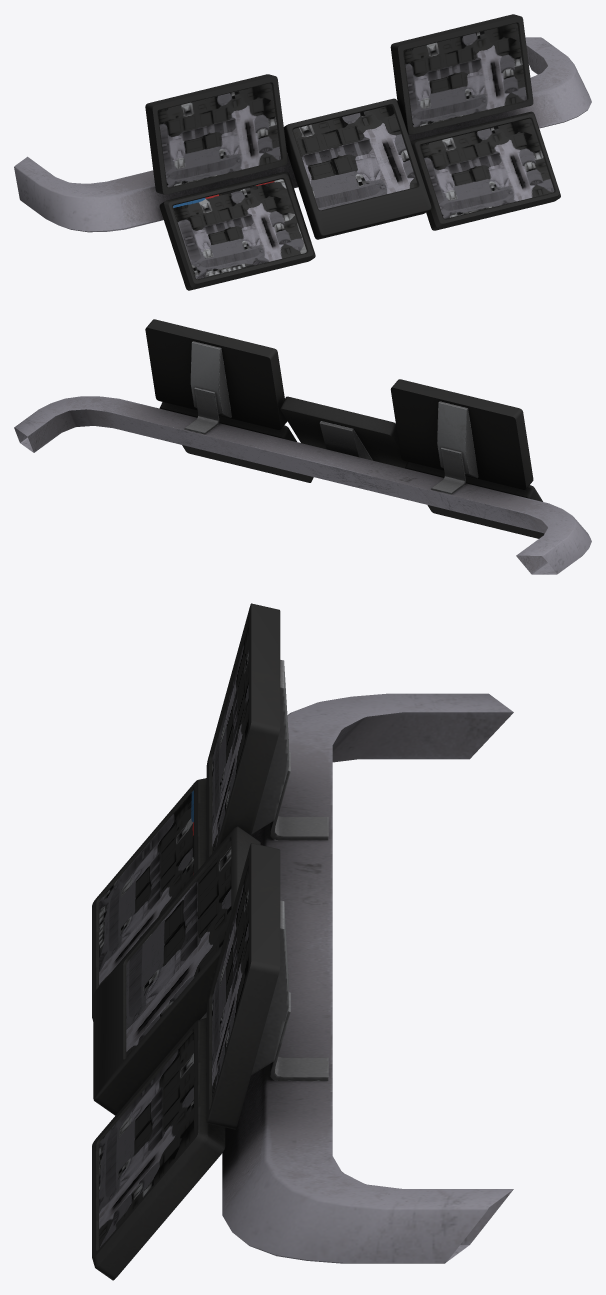
File: Console Big.fbx
3 renders of one model, top to bottom at view 1: azimuth 30°, elevation 25°; view 2: azimuth 150°, elevation 25°; view 3: azimuth 270°, elevation 25°, orthographic. The views are drawn at different scales.
Parts seen in each view (by area): view 1: Console_Big, Top_Right_Screen, Top_Left_Screen, Bottom_Right_Screen, Bottom_Left_Screen, Middle_Screen; view 2: Console_Big; view 3: Console_Big, Bottom_Right_Screen, Middle_Screen, Bottom_Left_Screen, Top_Right_Screen, Top_Left_Screen.
Part boxes in pixels (x1,y1,x2,y2): Console_Big: (14, 14, 591, 290); Top_Right_Screen: (404, 23, 526, 127); Top_Left_Screen: (158, 83, 280, 187); Bottom_Right_Screen: (420, 118, 554, 218); Bottom_Left_Screen: (173, 179, 306, 279); Middle_Screen: (293, 105, 417, 210); Console_Big: (14, 319, 591, 574); Console_Big: (92, 603, 513, 1280); Bottom_Right_Screen: (99, 1032, 193, 1248); Middle_Screen: (126, 841, 231, 1057); Bottom_Left_Screen: (99, 790, 193, 985); Top_Right_Screen: (212, 866, 248, 1100); Top_Left_Screen: (212, 627, 248, 852).
Size of the model in its own units: 141 by 40.1 by 47.99.
